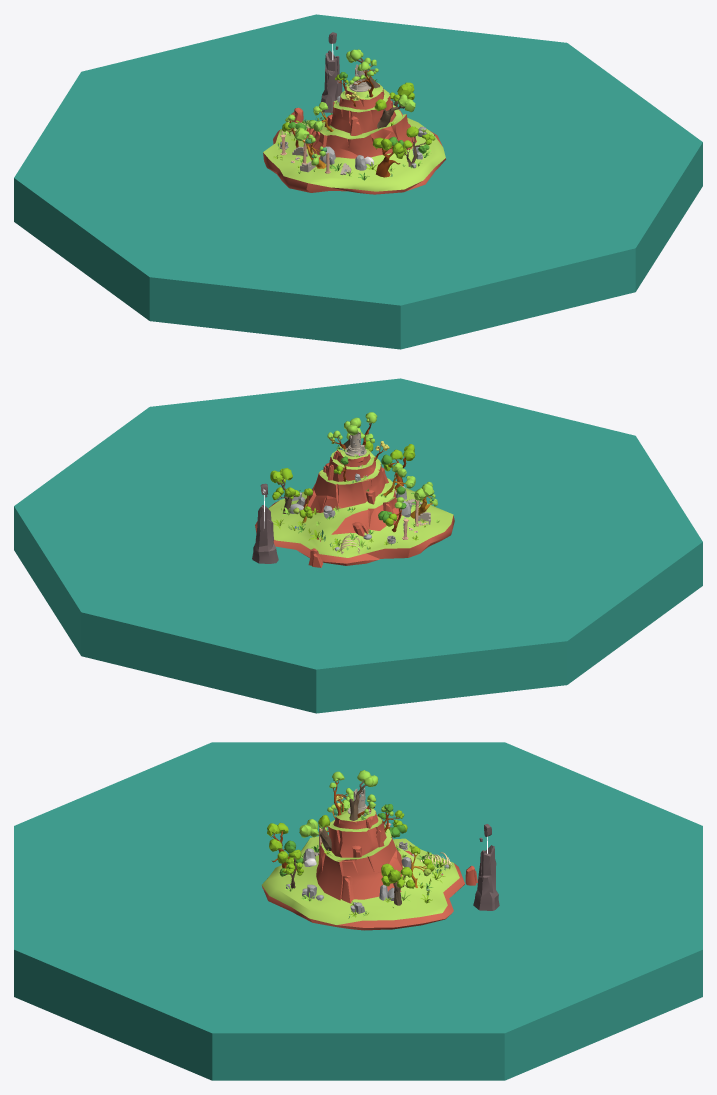
File: island.glb
3 renders of one model, top to bottom at view 1: azimuth 30°, elevation 25°; view 2: azimuth 150°, elevation 25°; view 3: azimuth 270°, elevation 25°, orthographic. The views are drawn at different scales.
Visible parts, largest first — view 1: yet_111, Plane.014_108, Cylinder.009_94; view 2: yet_111, Plane.014_108, Cylinder.009_94; view 3: yet_111, Plane.014_108, Cylinder.009_94.
Boxes of the visible parts, x1,y1,x2,y2 form: yet_111: (14, 14, 702, 349); Plane.014_108: (263, 83, 445, 194); Cylinder.009_94: (321, 50, 342, 112); yet_111: (14, 378, 702, 713); Plane.014_108: (255, 446, 454, 565); Cylinder.009_94: (252, 505, 278, 563); yet_111: (14, 742, 702, 1080); Plane.014_108: (261, 808, 464, 930); Cylinder.009_94: (473, 845, 499, 910).
Bounding box in the file's own units: 191 × 50.41 × 191.
